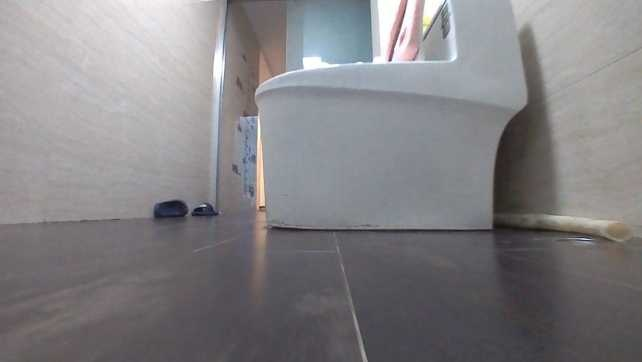toilet: (250, 0, 530, 230)
